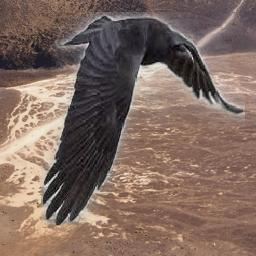Crow: (41, 13, 245, 226)
